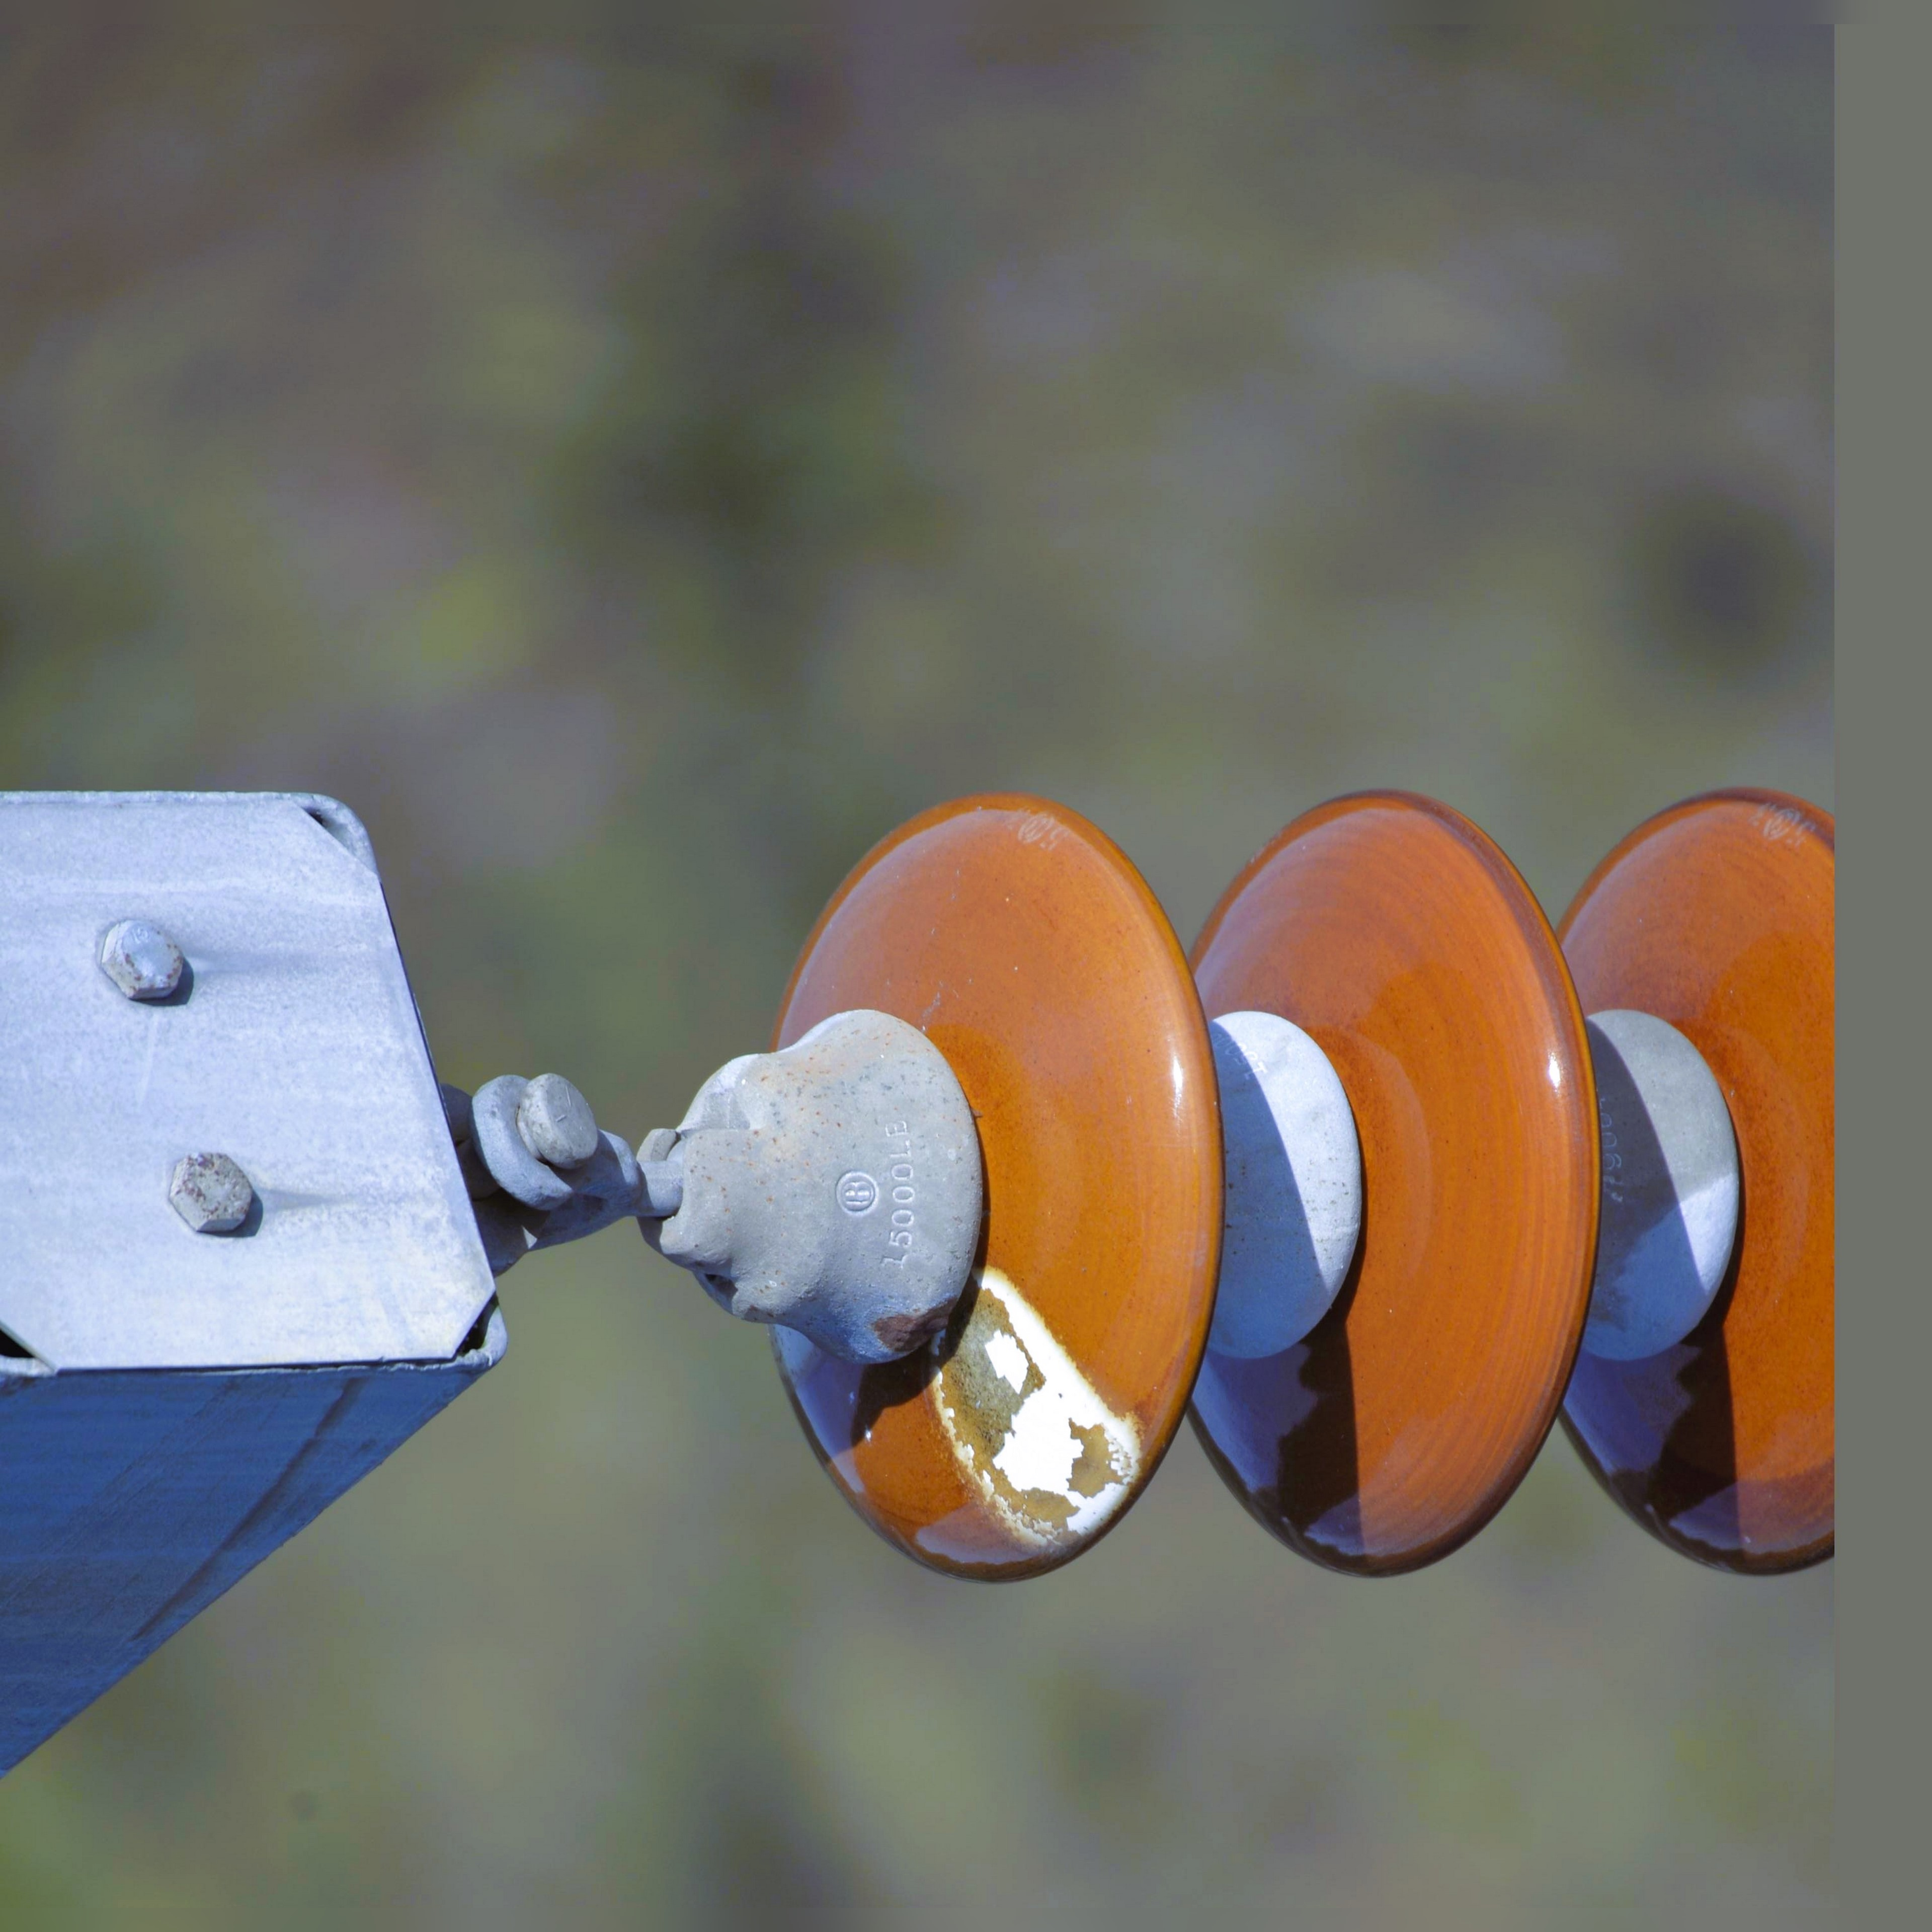Insulator flashover: (708, 777, 1251, 1589)
